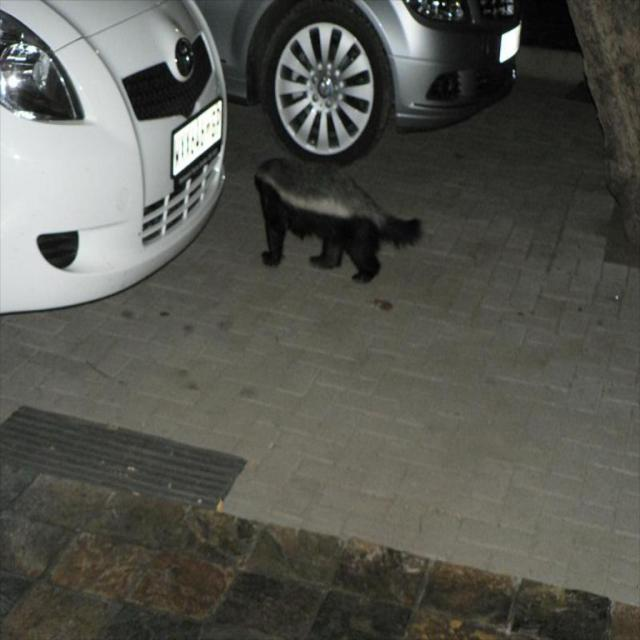car: (10, 0, 224, 298)
